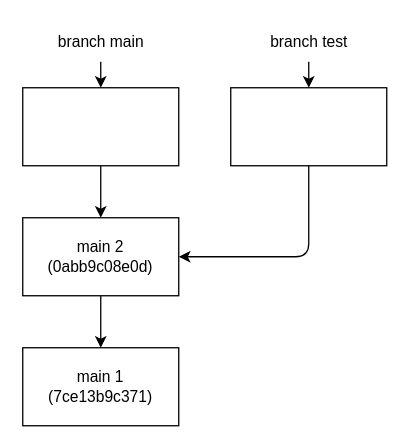
Image size: 410x448. Some labels were removed from this diagram. Here are the shapes that lost their labels. From the top down, the centre of each, then its label:
the point at 100,126: main 3 (891235b67db)
the point at 308,126: test 1 (bca2c0fcd66)
